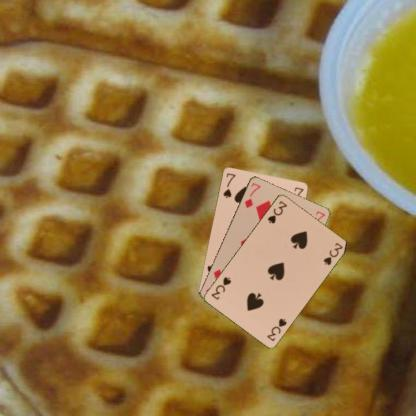3s: (264, 316, 288, 342), (266, 198, 288, 224)
7d: (242, 180, 262, 209)
7s: (220, 170, 237, 199)
